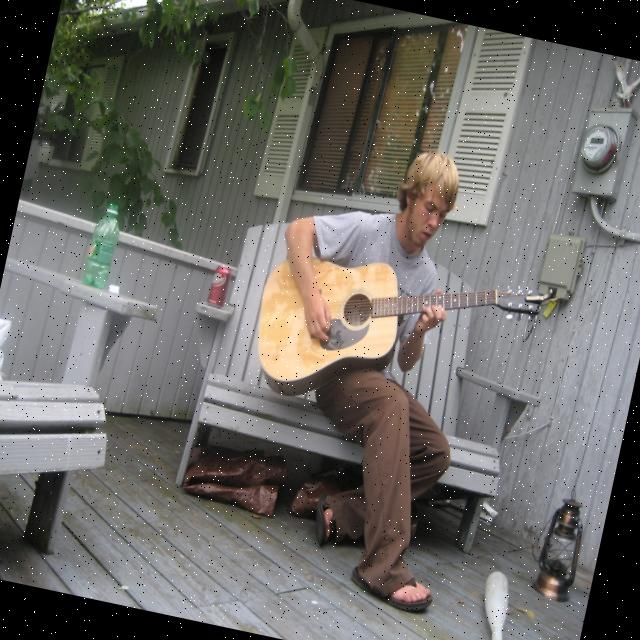guitar: (240, 228, 550, 445)
